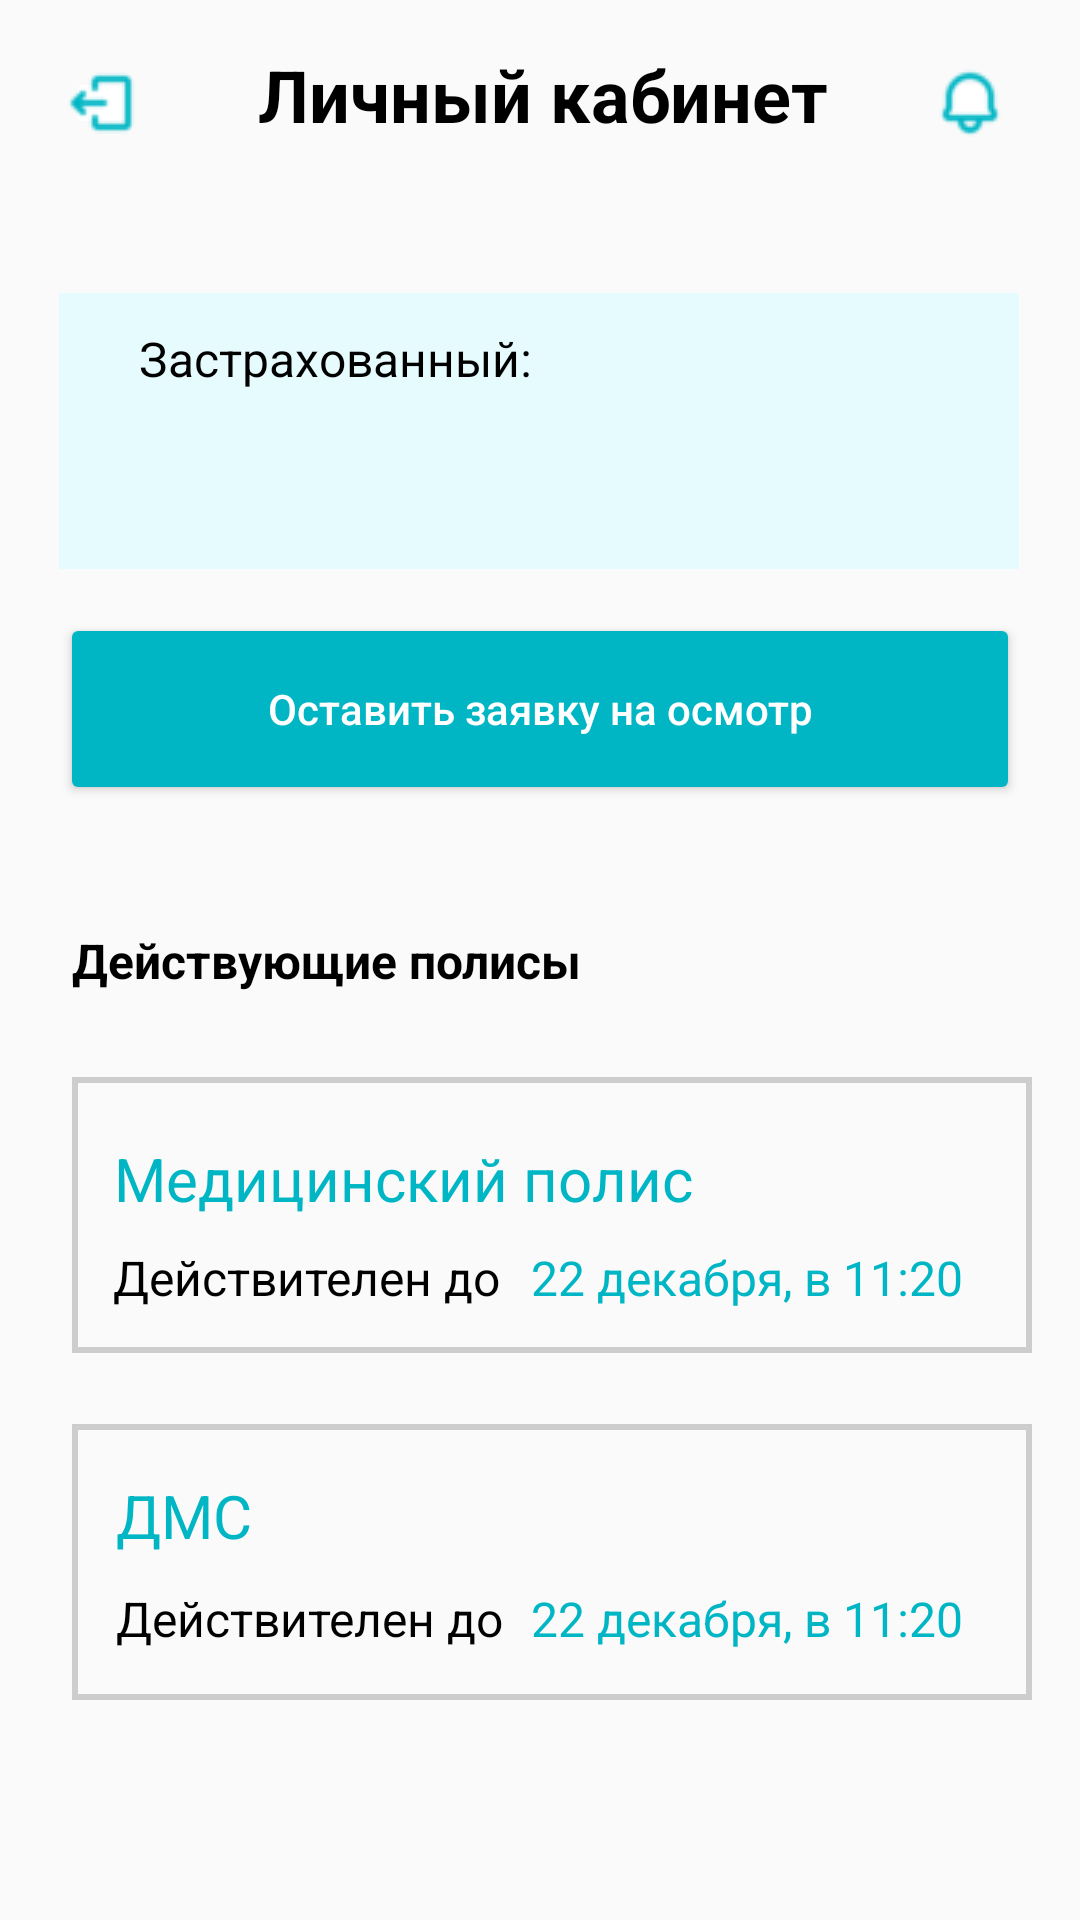

Named icons in this screenshot (1080 x 1920) and their bounding boxes, (x1, y1, x2, y2):
exit: (70, 74, 133, 132)
notification: (941, 71, 999, 134)
